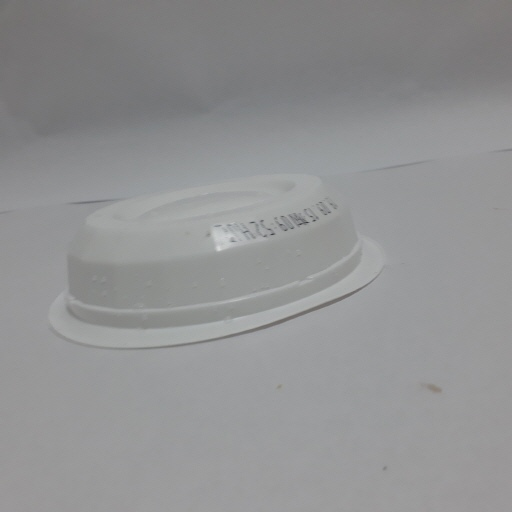Plastic_5: (47, 173, 385, 352)
